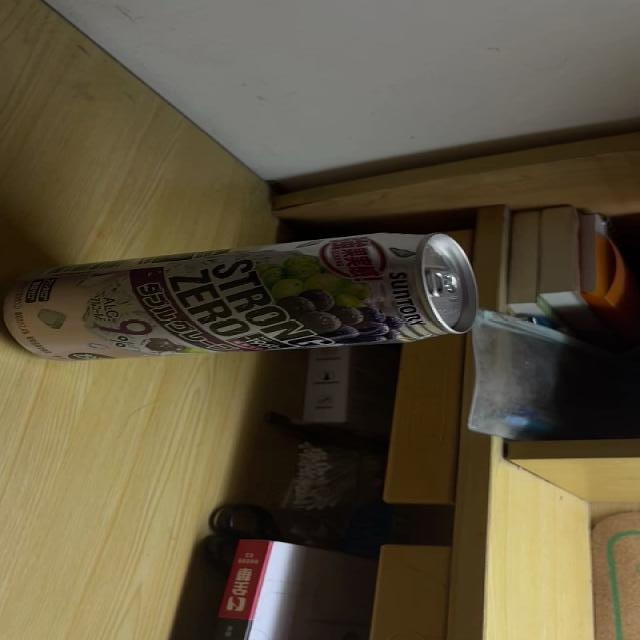Liquor: (8, 234, 477, 365)
